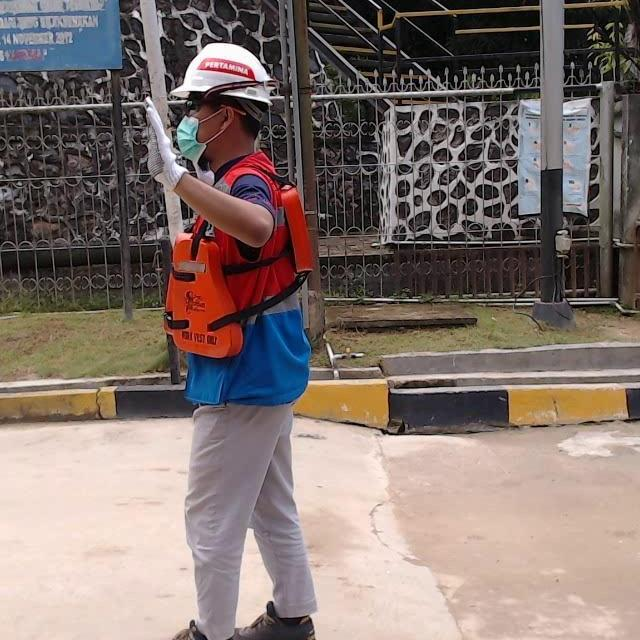Gloves: (142, 103, 186, 188)
Hardhat: (172, 41, 278, 106)
Mask: (175, 109, 228, 161)
Person: (123, 37, 317, 640)
Safety Vest: (162, 179, 316, 358)
